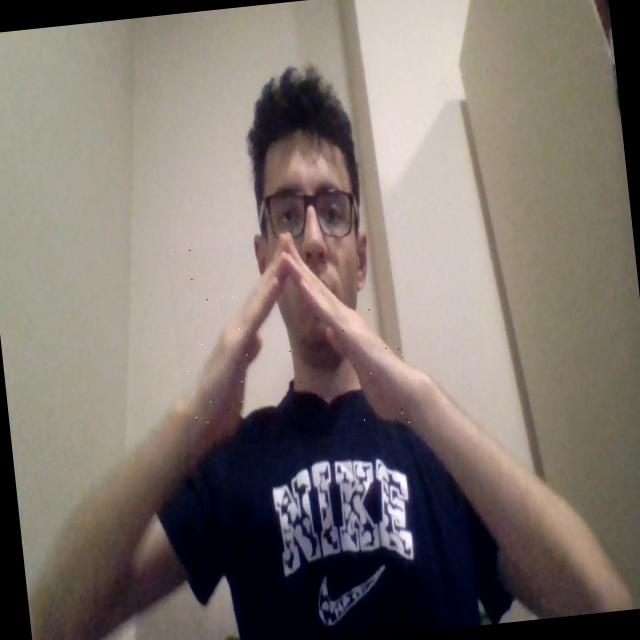house: (166, 228, 412, 451)
